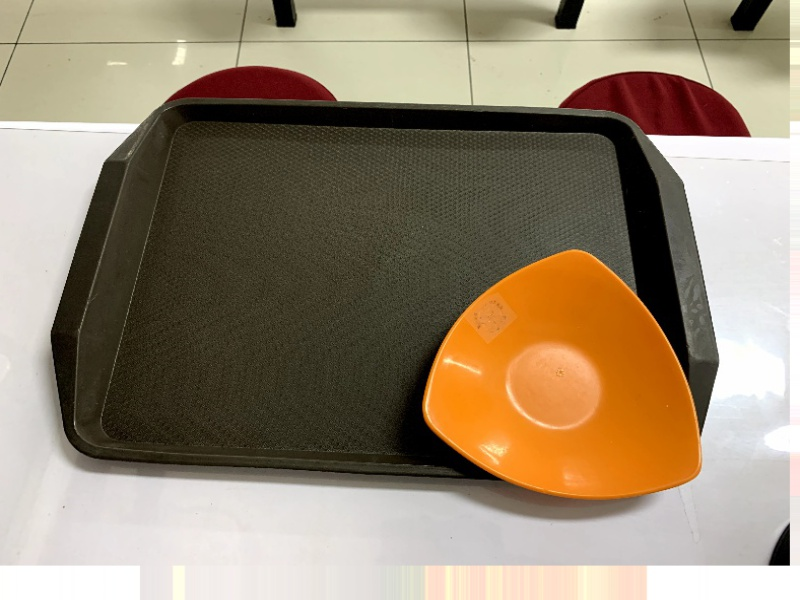dish11: (415, 246, 704, 508)
